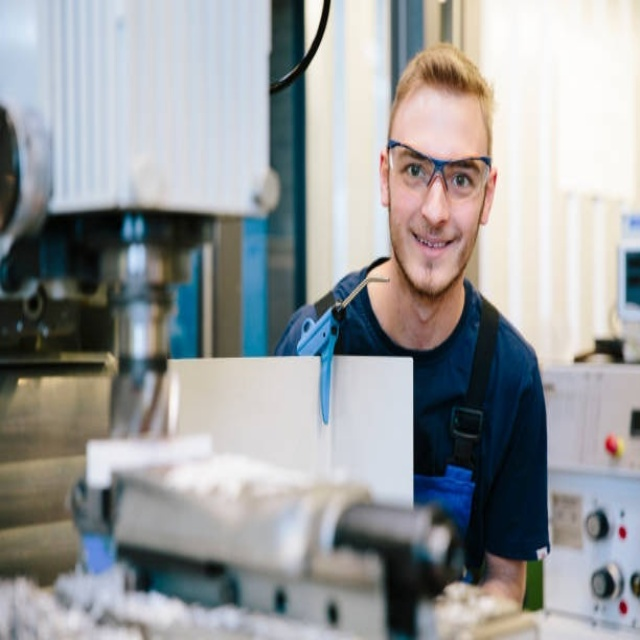Gafas: (387, 141, 492, 199)
Sin_mascara: (405, 218, 462, 281)
